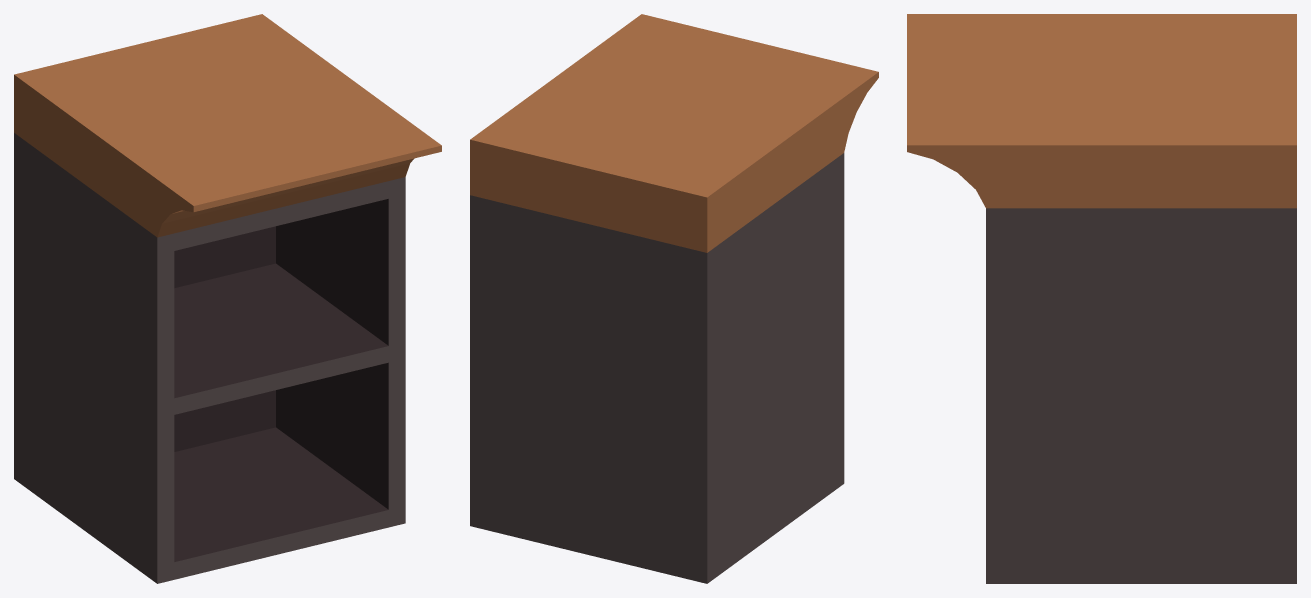
The model's file is Prop_KitchenCabinet_02_C.fbx.
3 views of the same model, side by side, from view 1: azimuth 30°, elevation 25°; view 2: azimuth 150°, elevation 25°; view 3: azimuth 270°, elevation 25° (orthographic). The views are drawn at different scales.
Visible parts, largest first — view 1: Prop_KitchenCabinet_02_C; view 2: Prop_KitchenCabinet_02_C; view 3: Prop_KitchenCabinet_02_C.
Boxes of the visible parts, box(x1,y1,x2,y2) form: Prop_KitchenCabinet_02_C: box(14, 14, 441, 583); Prop_KitchenCabinet_02_C: box(470, 14, 878, 583); Prop_KitchenCabinet_02_C: box(907, 14, 1296, 583).
Size of the model in its own units: 60 by 93.41 by 75.21.
